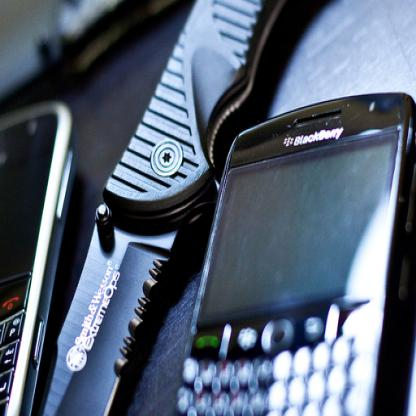knife: (0, 0, 351, 415), (0, 0, 354, 172)
